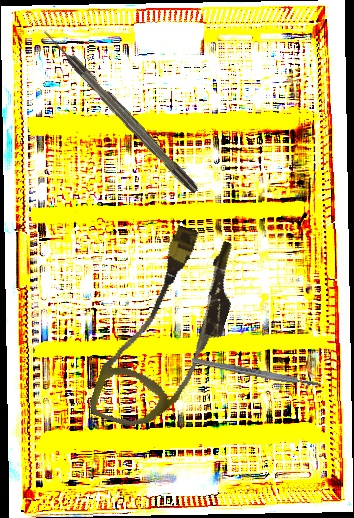Cannula: (86, 216, 251, 446)
Hook Surgical: (39, 25, 201, 197)
Scalpel Handle: (190, 356, 322, 389)
